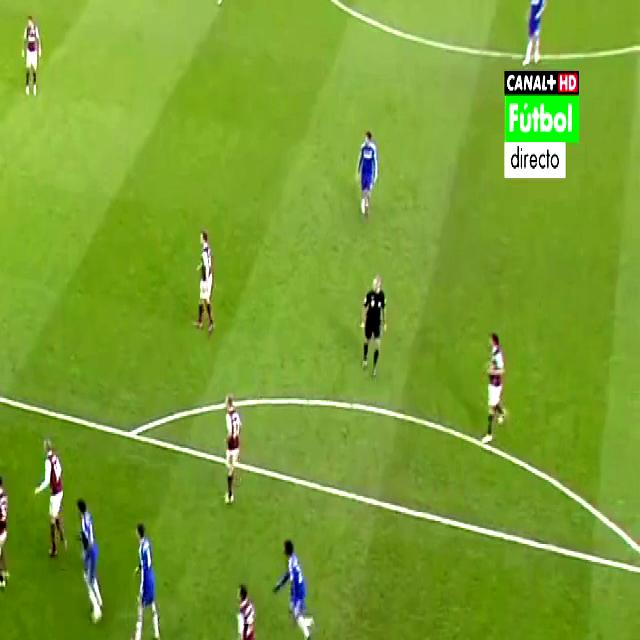referee: (354, 268, 389, 384)
soccer-player: (274, 526, 322, 640), (34, 428, 74, 563), (72, 492, 109, 636), (120, 512, 159, 640), (480, 322, 514, 452), (192, 218, 220, 340), (217, 385, 244, 509), (351, 120, 382, 224), (227, 572, 265, 640), (17, 6, 43, 104), (0, 462, 16, 599), (523, 0, 551, 63)
